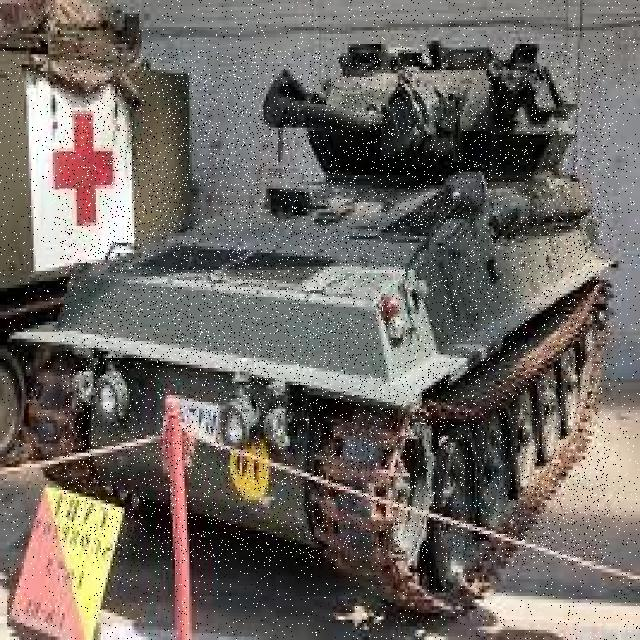MIL_MBT: (59, 49, 610, 563)
